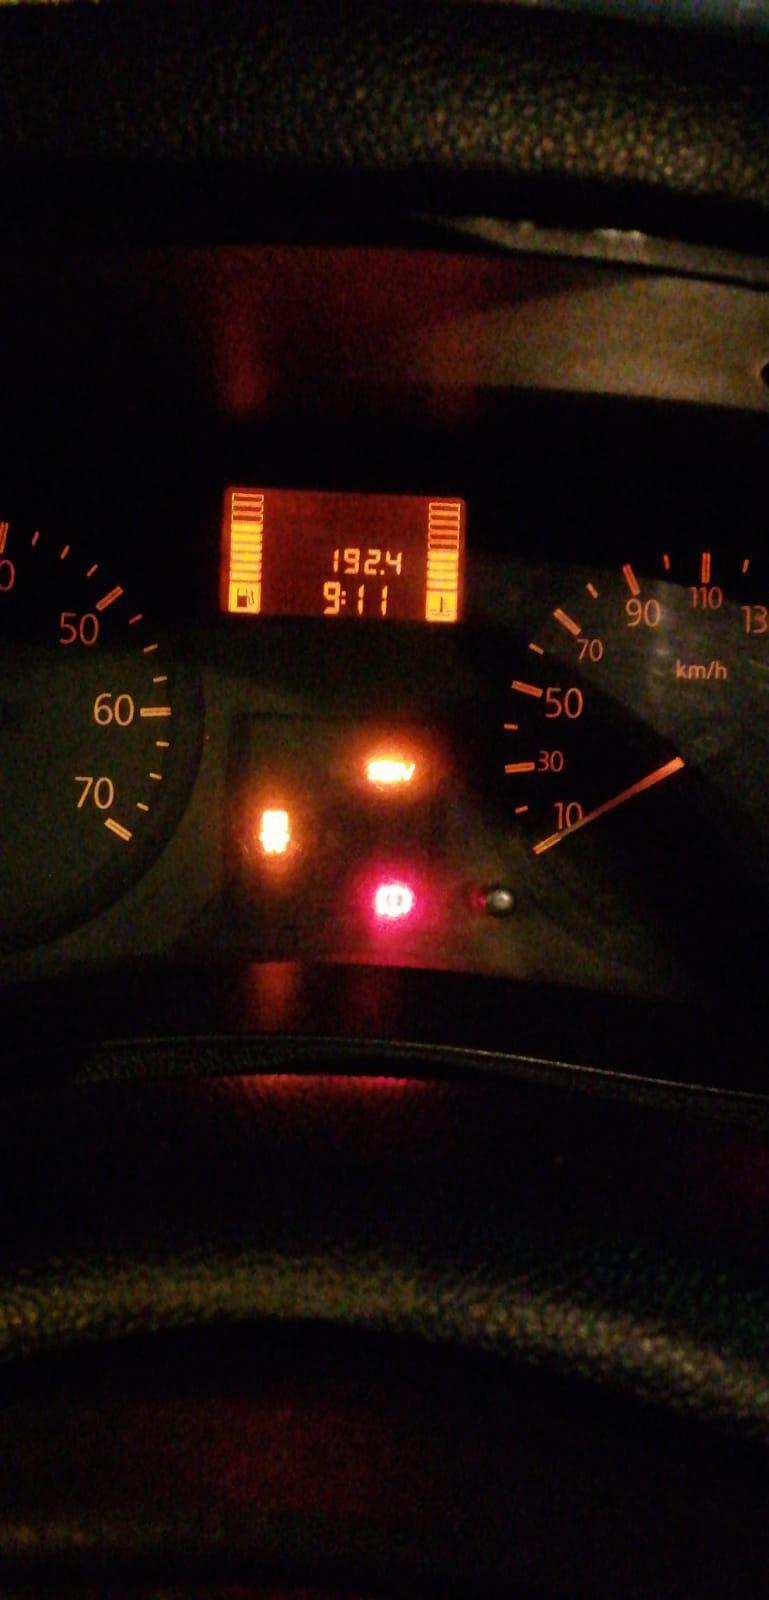,: (378, 569, 385, 576)
1: (355, 583, 365, 615), (379, 585, 388, 616), (331, 548, 340, 573)
2: (362, 548, 381, 576)
4: (385, 549, 402, 576)
9: (321, 580, 341, 615), (342, 547, 360, 576)
X: (340, 590, 347, 605)
odometer: (216, 484, 468, 626)
